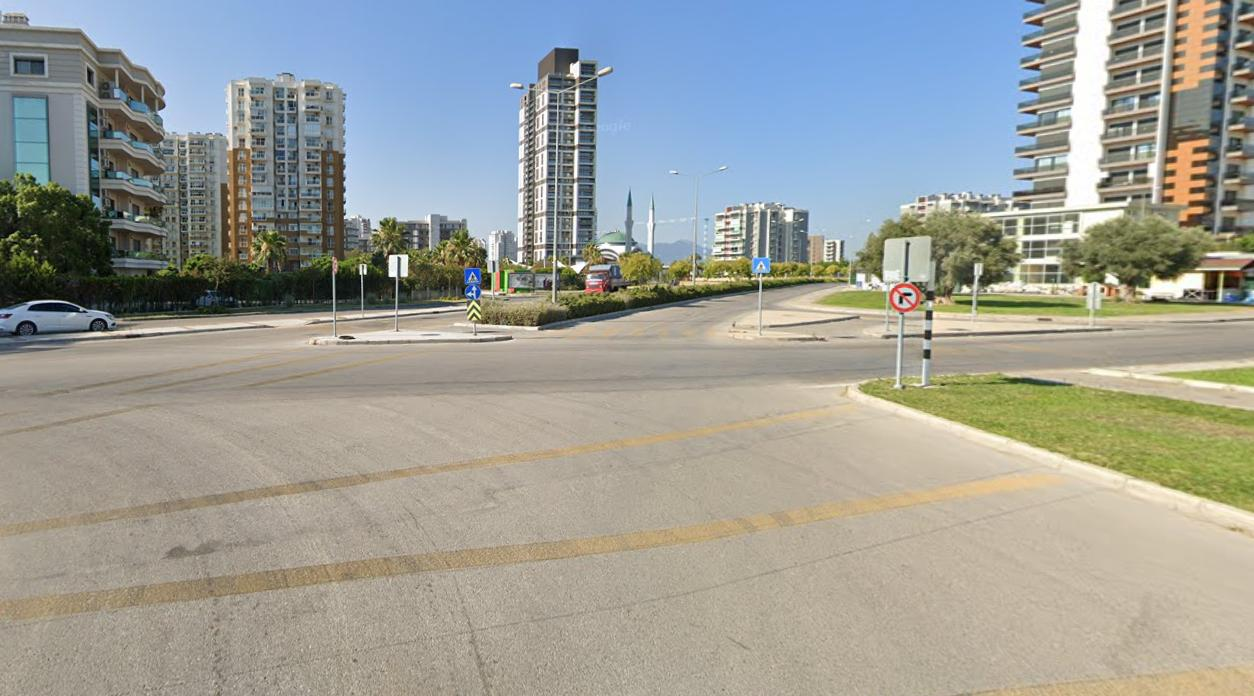rightturnsareforbidden: (891, 283, 920, 310)
